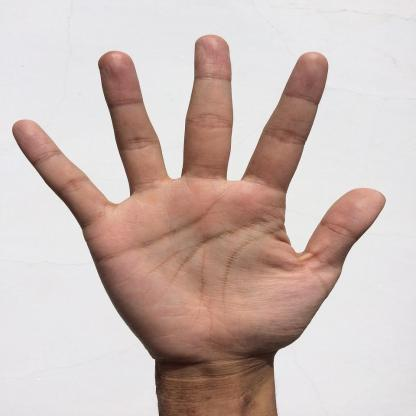palm: (14, 34, 388, 364)
